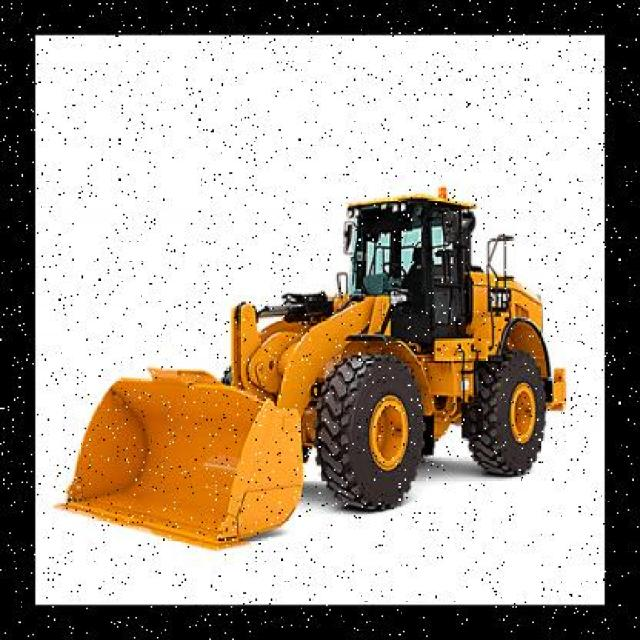buldozerpayloadergrader: (30, 175, 568, 563)
